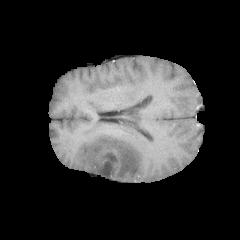glioma: (80, 134, 144, 179)
